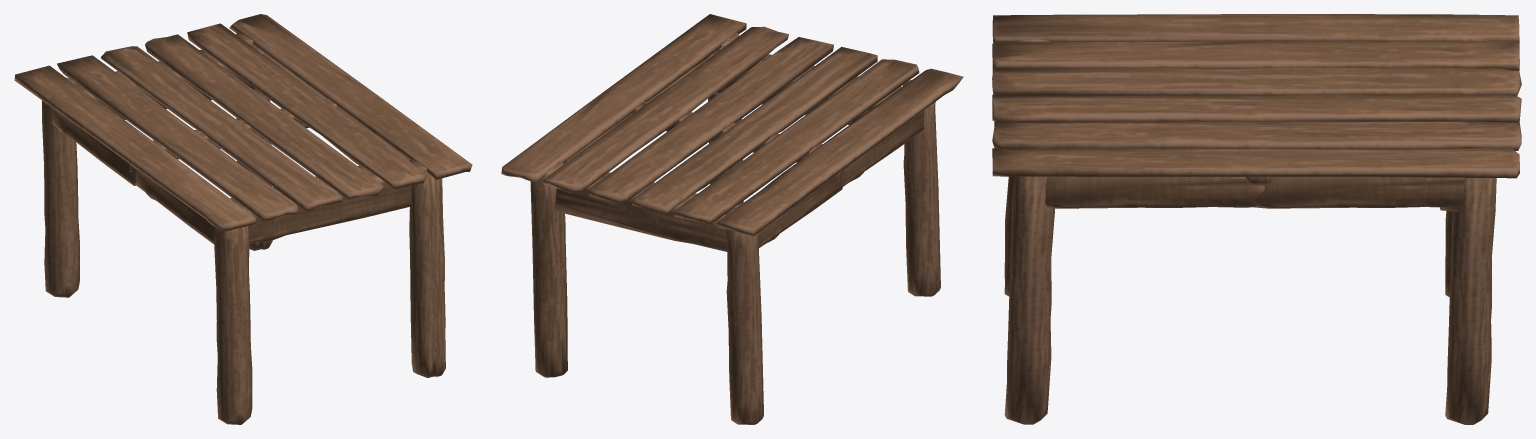
Rendered from SM_table_01.fbx.
3 views of the same model, side by side, from view 1: azimuth 30°, elevation 25°; view 2: azimuth 150°, elevation 25°; view 3: azimuth 270°, elevation 25° (orthographic). The views are drawn at different scales.
Parts seen in each view (by area): view 1: table_01; view 2: table_01; view 3: table_01.
Part boxes in pixels (box(x1,y1,x2,y2)): table_01: box(14, 14, 472, 424); table_01: box(501, 14, 963, 424); table_01: box(992, 14, 1521, 424).
Size of the model in its own units: 132 by 107 by 191.
